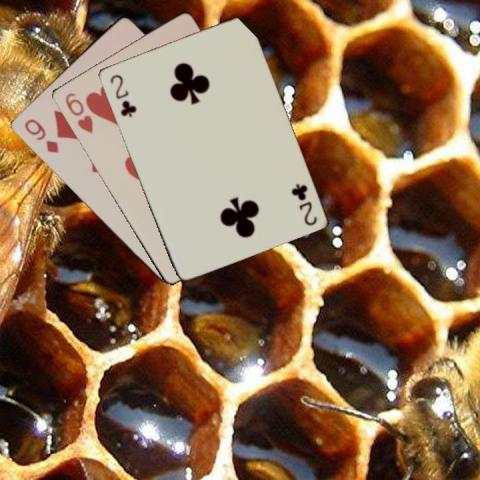2c: (107, 70, 138, 118), (288, 181, 318, 227)
6h: (61, 90, 94, 136)
9d: (21, 115, 60, 155)
